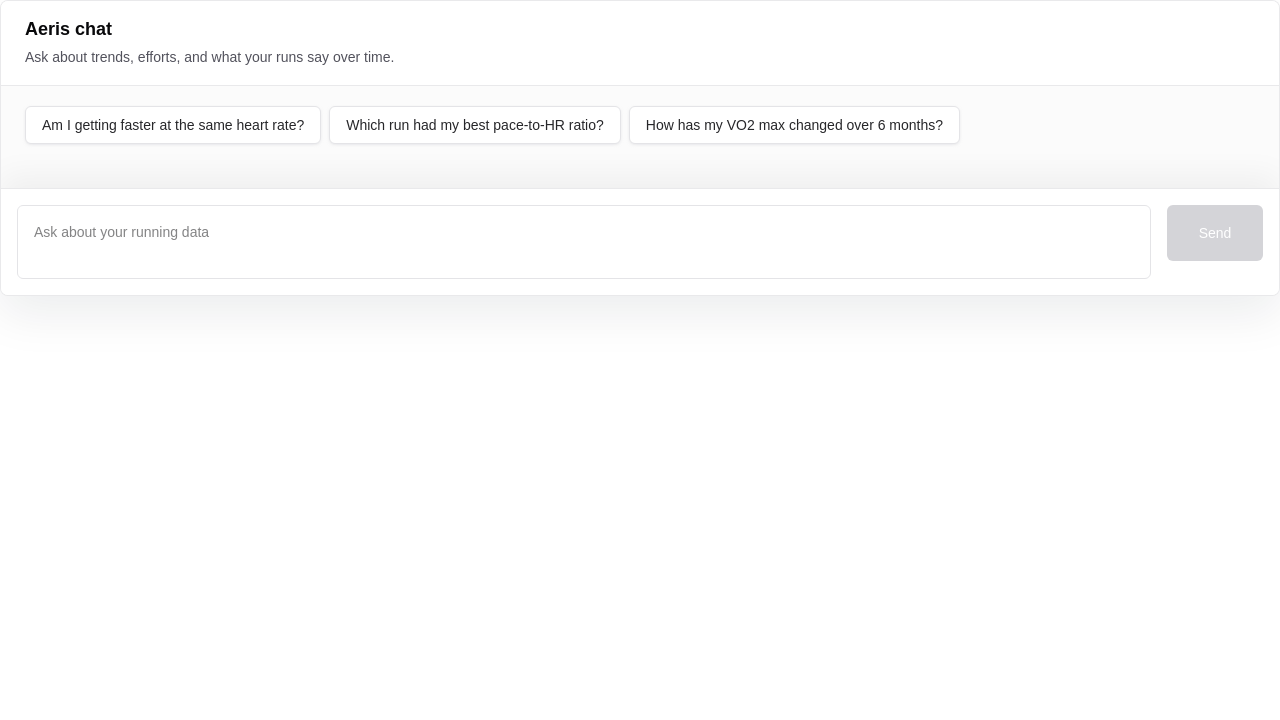
Test case: ChatPanel › hides follow-up prompts while streaming and replaces them after the next answer
Type "Am I getting faster at the same heart rate?" into the text box named "message" at coordinates (584, 242), box [17,205,1151,279]
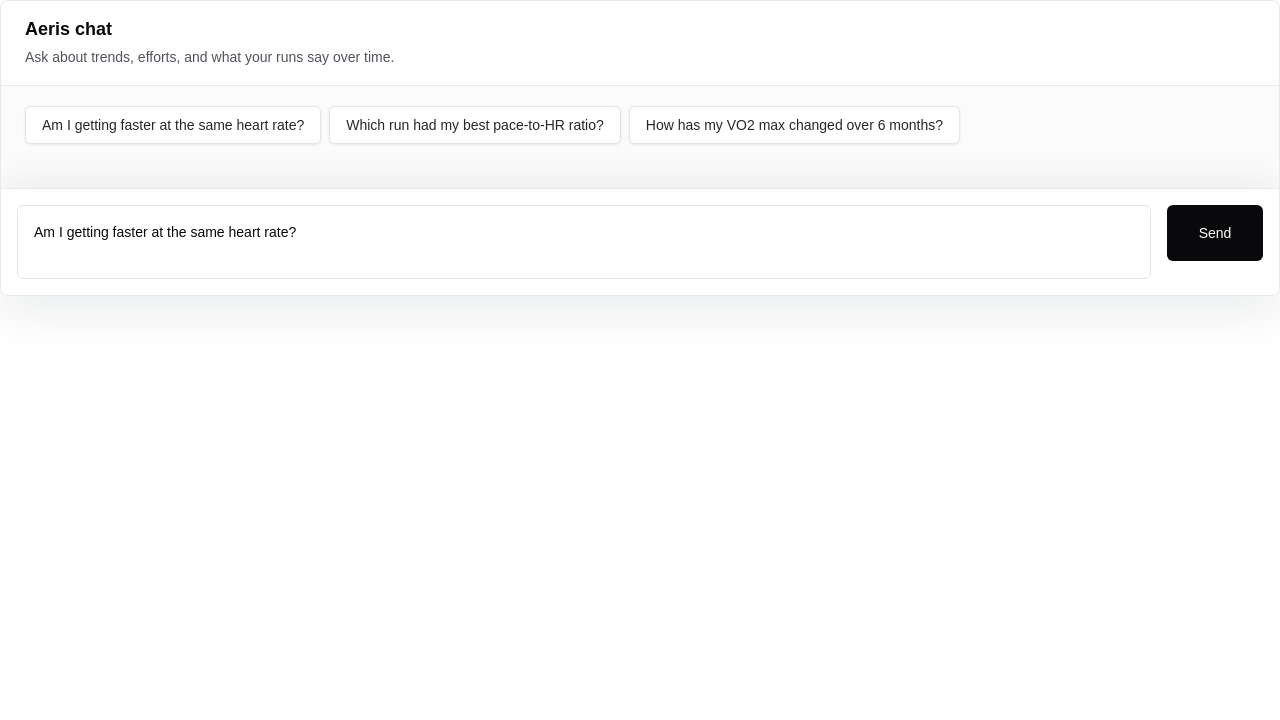
Click the button "Send" at coordinates (1215, 233), box [1167,205,1263,261]
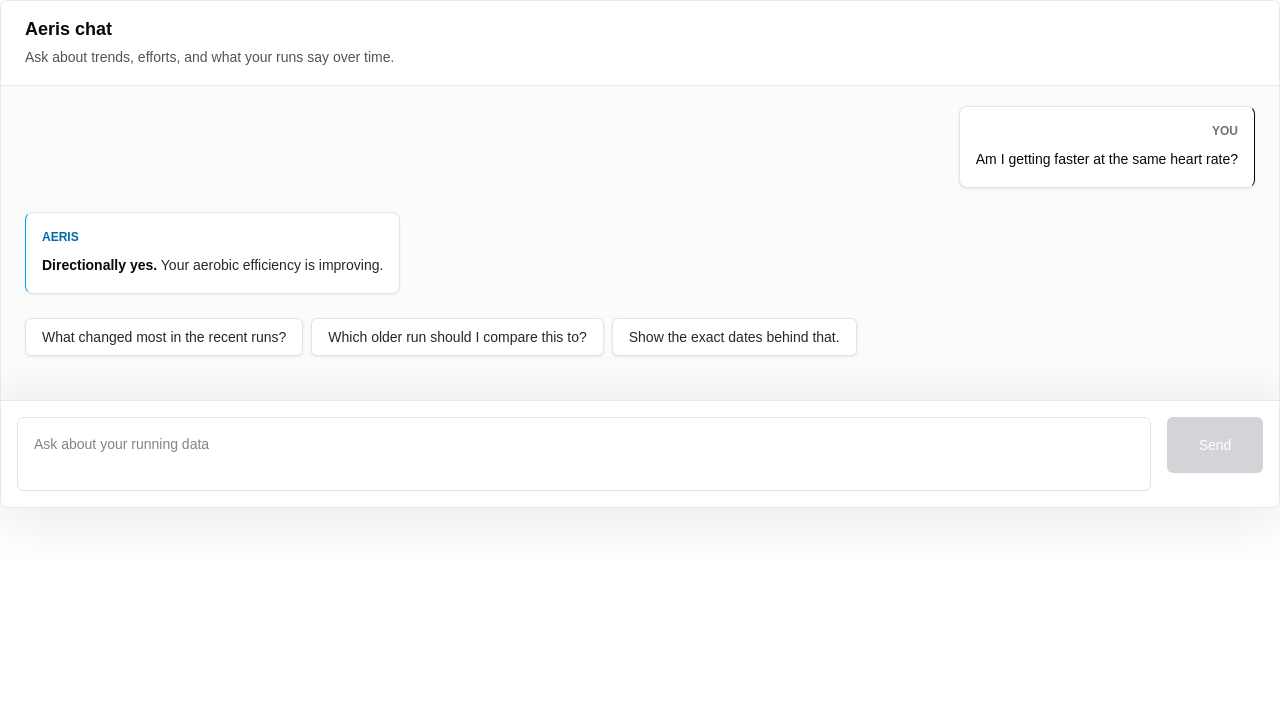
Click the button with aria-label "quick reply: what changed most in the recent runs" at coordinates (164, 337), box [25,318,303,356]
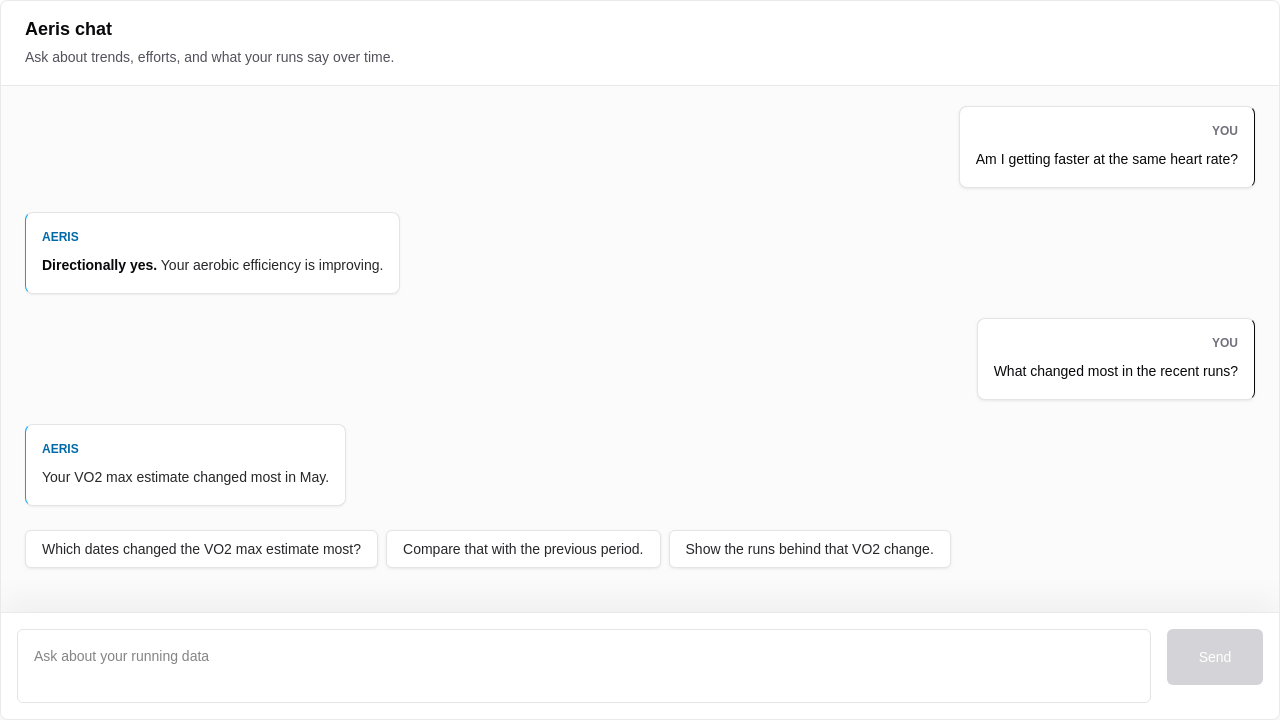
Now the button with aria-label "quick reply: which dates changed the vo2 max estimate most" is shown, box [25,530,378,568]
